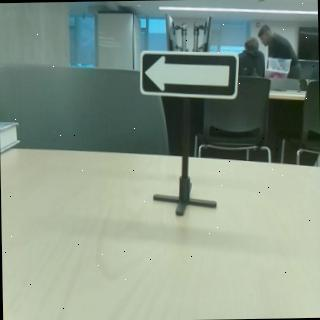sign_oneway_left: (138, 48, 241, 103)
